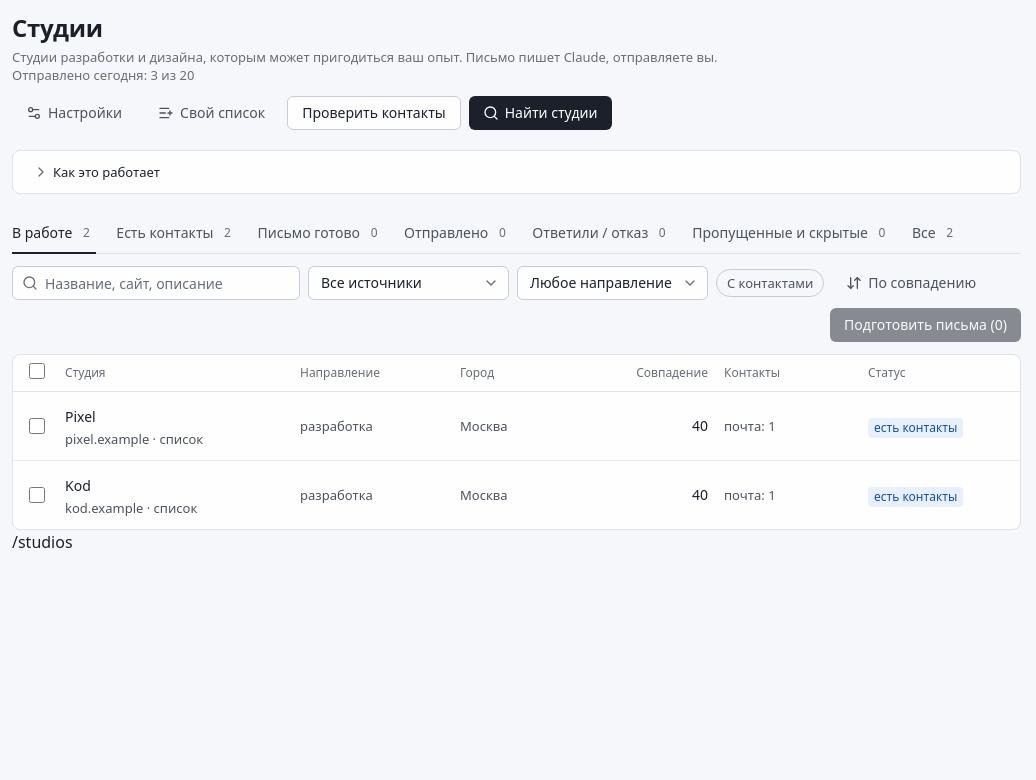
it: StudiosPage › lists the studios and queues letters for the chosen ones
Check: the button "Pixel" is shown, box [65, 407, 96, 427]
Check: the text "Отправлено сегодня: 3 из 20" is shown, box [12, 66, 194, 84]
Click the checkbox named "Выбрать: Pixel". click: (37, 426)
box: [29, 418, 45, 434]
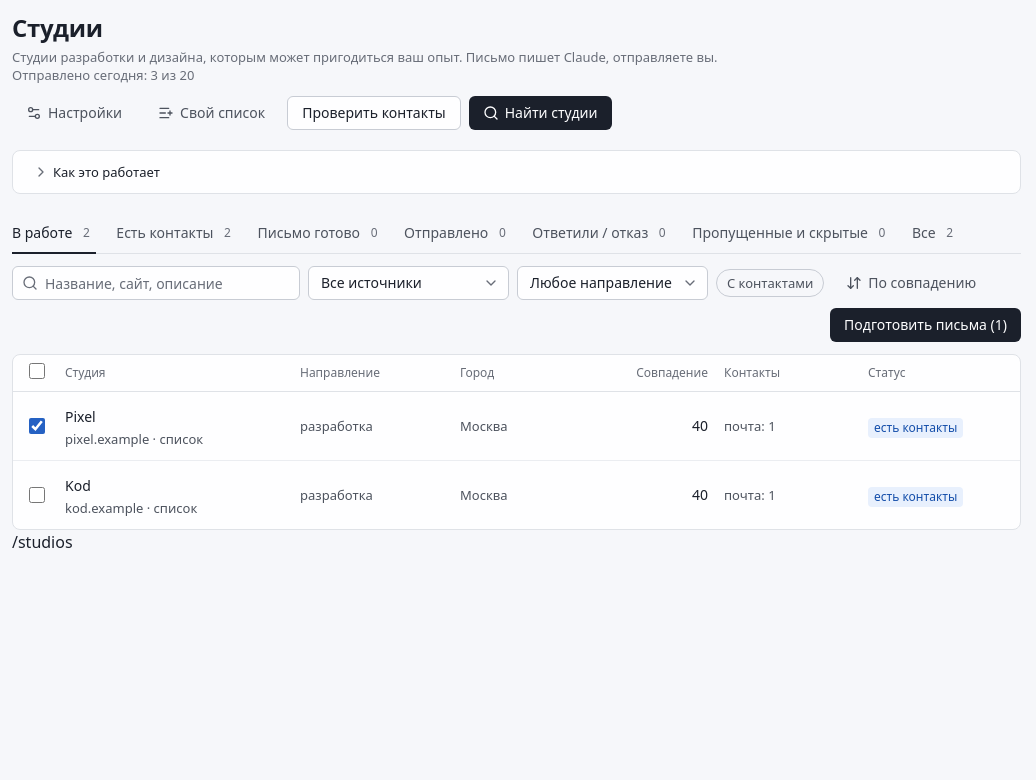
Click the button "Подготовить письма (1)". click: (926, 325)
box: [830, 308, 1021, 342]
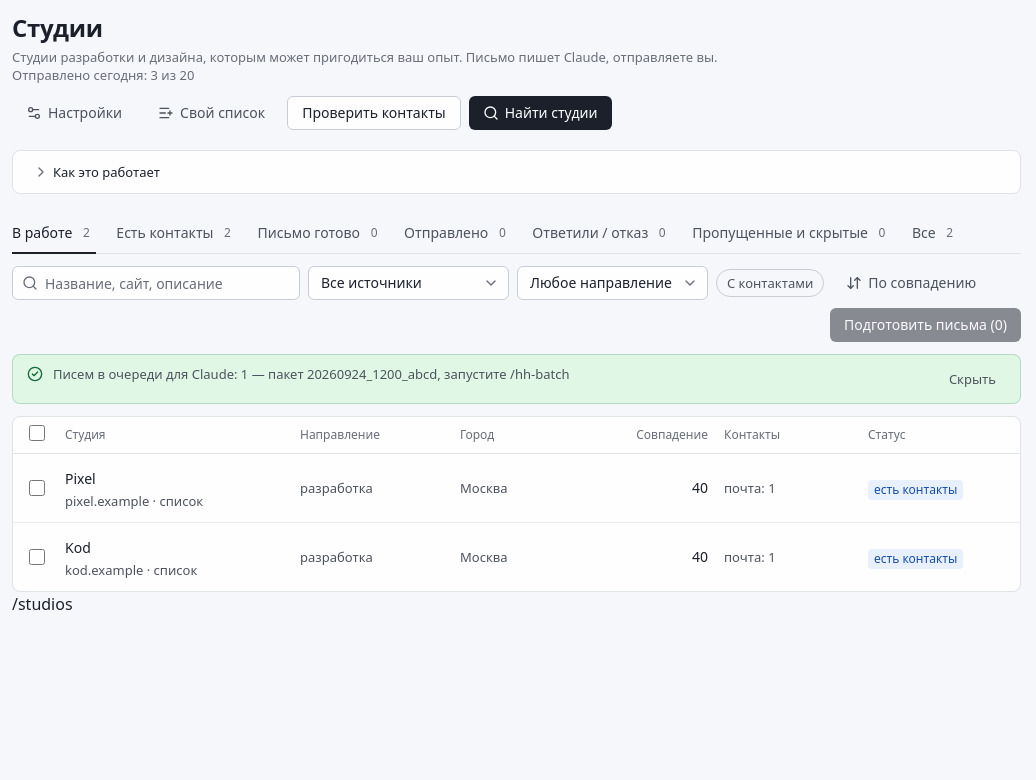
Check: the text "пакет 20260924_1200_abcd, запустите /hh-batch" is shown, box [53, 365, 569, 383]
